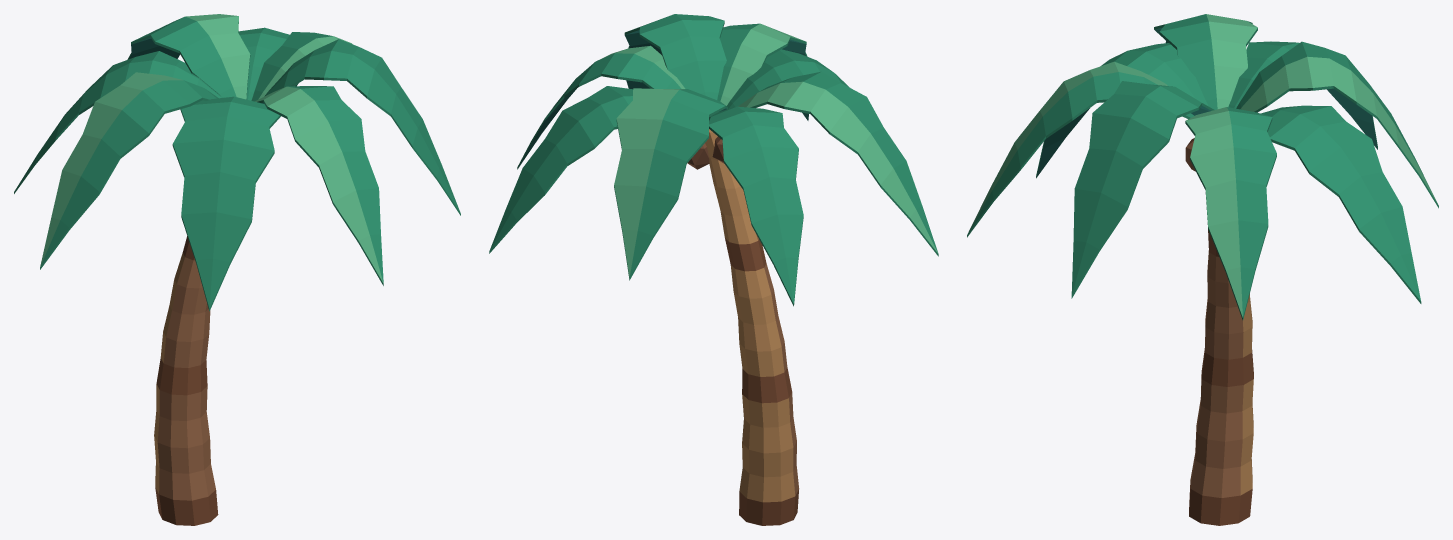
The model's file is palm.glb.
The picture shows the model from 3 angles, left to right: view 1: azimuth 30°, elevation 25°; view 2: azimuth 150°, elevation 25°; view 3: azimuth 270°, elevation 25°; orthographic projection. The views are drawn at different scales.
Parts seen in each view (by area): view 1: palm; view 2: palm; view 3: palm.
Part boxes in pixels (x1=…): palm: x1=14, y1=14, x2=460, y2=525; palm: x1=489, y1=14, x2=938, y2=525; palm: x1=967, y1=14, x2=1438, y2=525.
Bounding box in the file's own units: 7.51 × 8.04 × 7.06.
